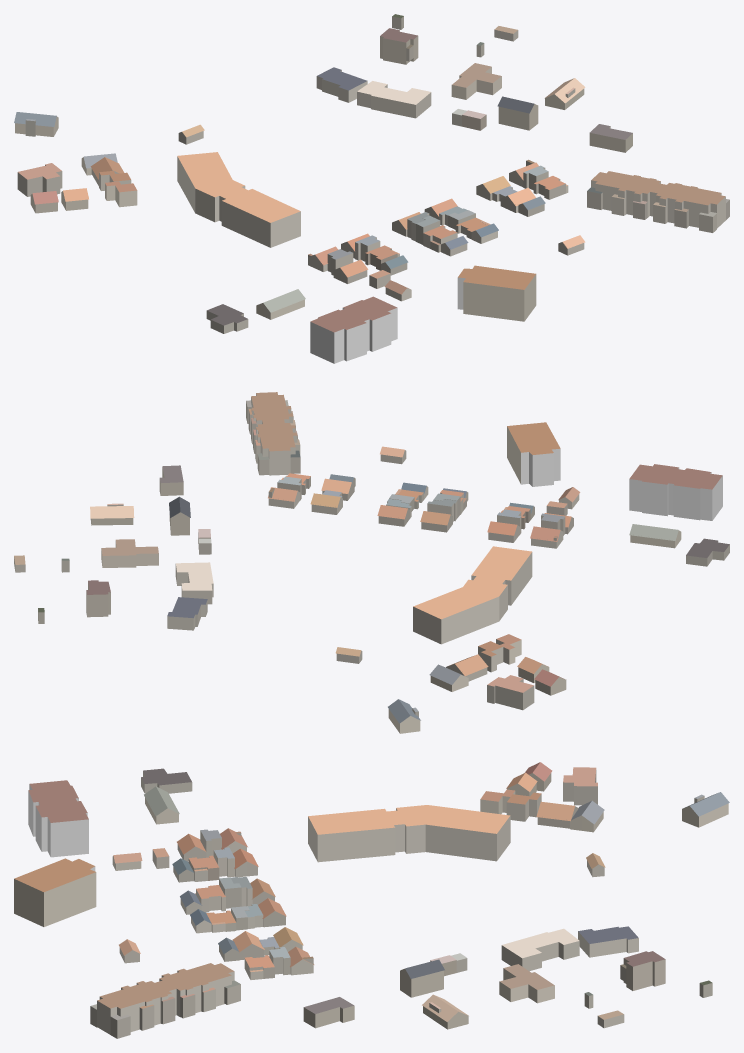
The picture shows the model from 3 angles, top to bottom: view 1: azimuth 30°, elevation 25°; view 2: azimuth 150°, elevation 25°; view 3: azimuth 270°, elevation 25°; orthographic projection. The views are drawn at different scales.
Parts seen in each view (by area): view 1: tuile; view 2: tuile; view 3: tuile.
Part boxes in pixels (x1,y1,x2,y2): tuile: [14, 14, 729, 363]; tuile: [14, 392, 729, 733]; tuile: [14, 762, 729, 1038].
Bounding box in the file's own units: 250 × 20.57 × 273.
